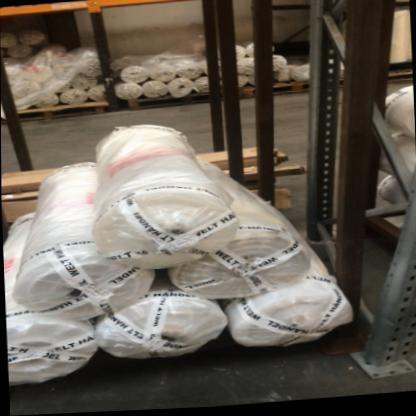vertical_damage: (354, 293, 416, 383)
